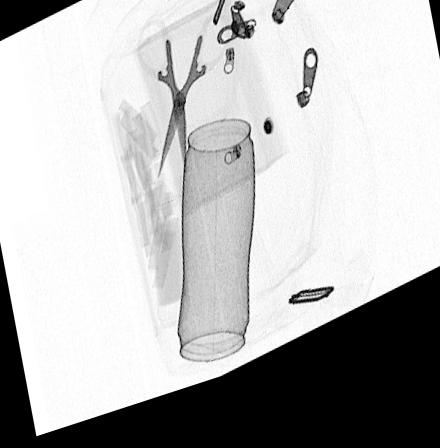Scissors: (136, 27, 228, 186)
